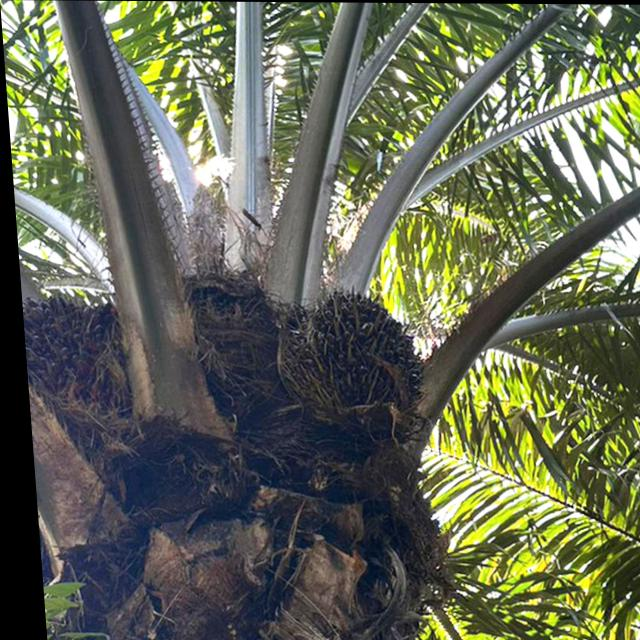unripe: (273, 281, 434, 458), (161, 257, 301, 420), (17, 282, 141, 446)
